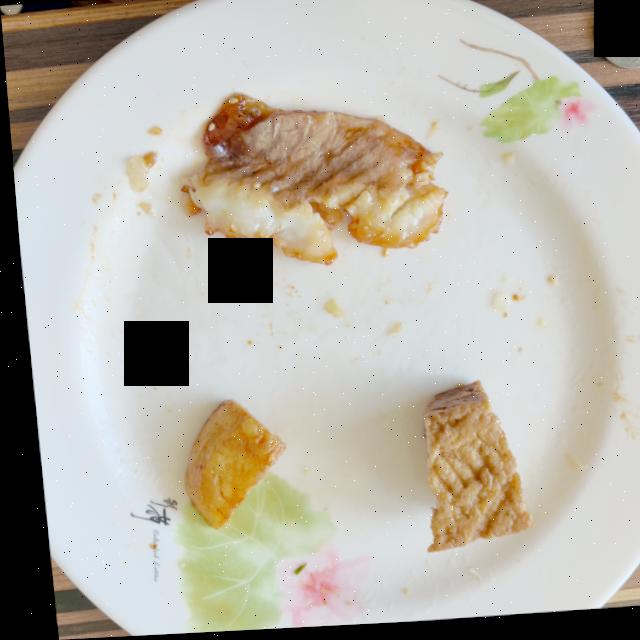Kabayaki sea bream fillet: (178, 96, 442, 268)
coin: (592, 1, 640, 75)
egg tofu: (415, 385, 522, 557)
fried potato: (175, 401, 277, 531)
